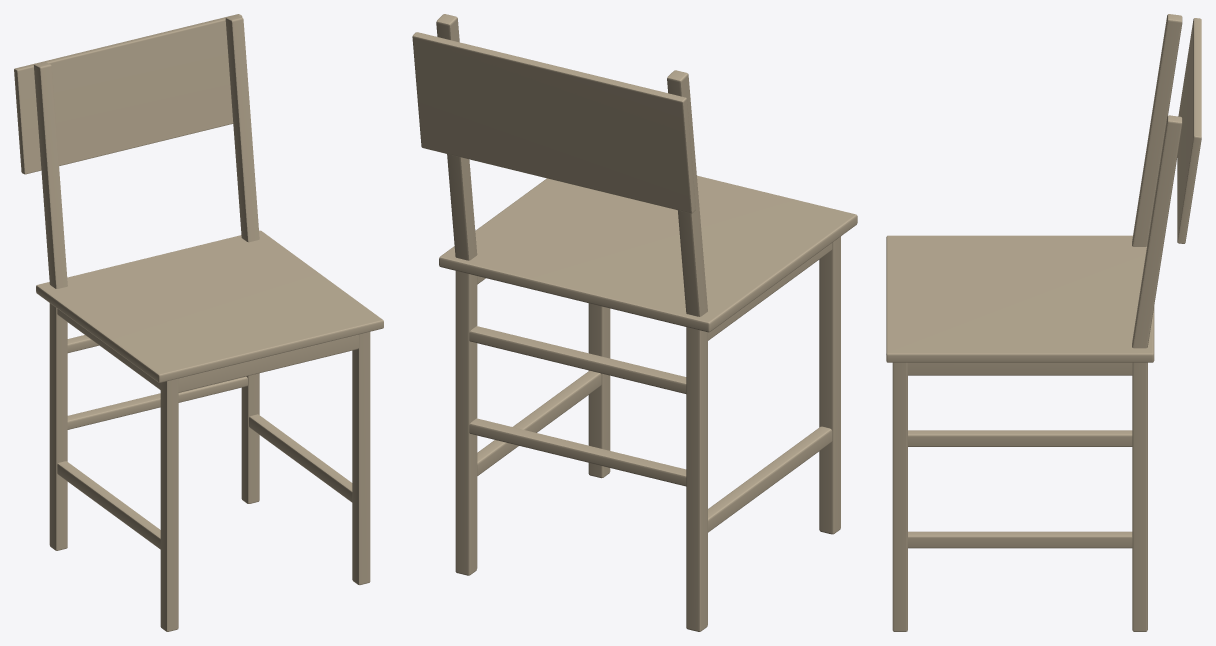
The model's file is chair.glb.
3 renders of one model, left to right at view 1: azimuth 30°, elevation 25°; view 2: azimuth 150°, elevation 25°; view 3: azimuth 270°, elevation 25°, orthographic. The views are drawn at different scales.
Visible parts, largest first — view 1: chair; view 2: chair; view 3: chair.
Part boxes in pixels (x1,y1,x2,y2): chair: [14, 14, 383, 631]; chair: [412, 14, 857, 631]; chair: [886, 14, 1201, 631].
Size of the model in its own units: 0.4 by 0.8004 by 0.4475.
